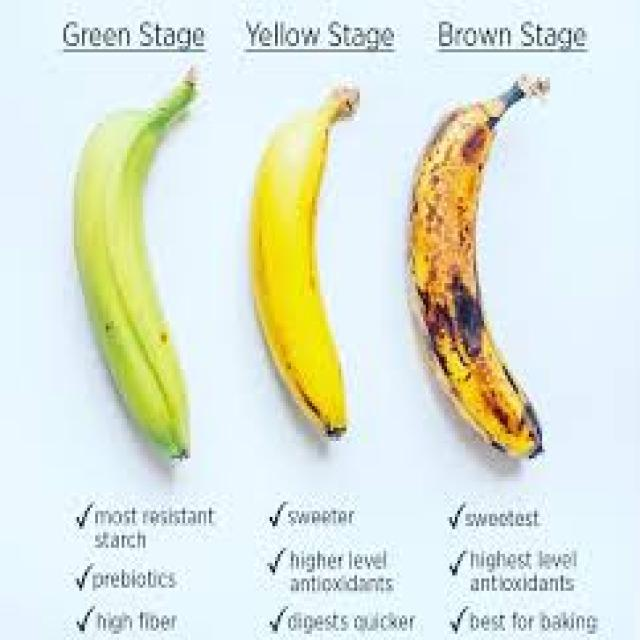non_orange: (404, 78, 543, 464), (71, 69, 202, 462), (250, 86, 358, 438)
